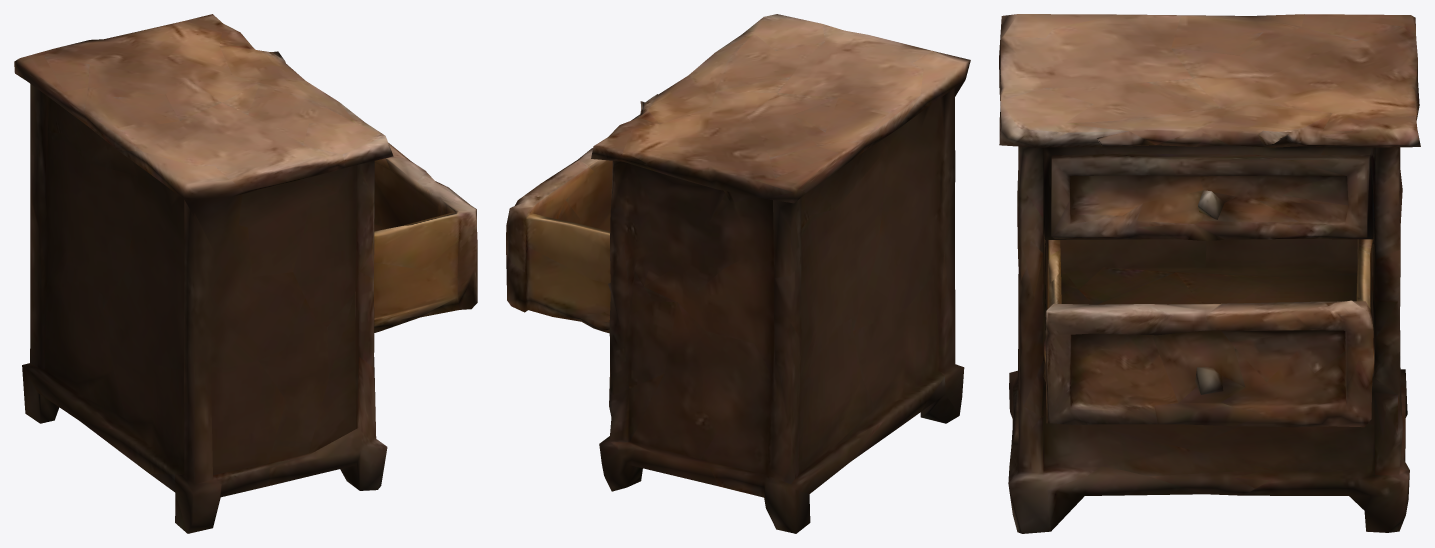
File: e_drawers.glb
3 renders of one model, left to right at view 1: azimuth 30°, elevation 25°; view 2: azimuth 150°, elevation 25°; view 3: azimuth 270°, elevation 25°, orthographic. The views are drawn at different scales.
Parts seen in each view (by area): view 1: tripo_node_5e2843d6-8596-4e0b-8127-b11399e89deb; view 2: tripo_node_5e2843d6-8596-4e0b-8127-b11399e89deb; view 3: tripo_node_5e2843d6-8596-4e0b-8127-b11399e89deb.
Part boxes in pixels (bbox=[...]): tripo_node_5e2843d6-8596-4e0b-8127-b11399e89deb: bbox=[14, 14, 477, 533]; tripo_node_5e2843d6-8596-4e0b-8127-b11399e89deb: bbox=[506, 14, 970, 533]; tripo_node_5e2843d6-8596-4e0b-8127-b11399e89deb: bbox=[999, 14, 1420, 533].
Bounding box in the file's own units: 0.9379 × 1 × 0.9265.
1 material, 1 textured.
